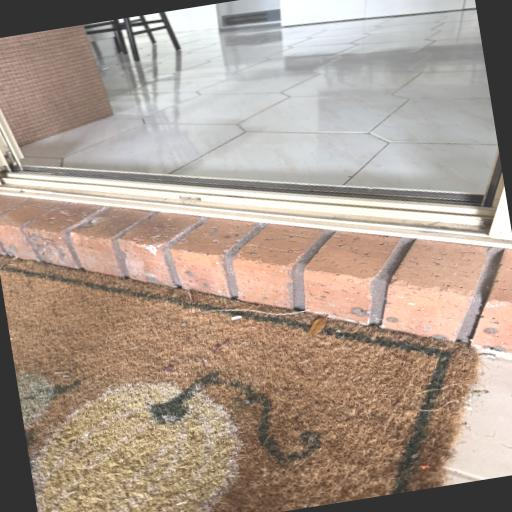step: (0, 170, 512, 355)
